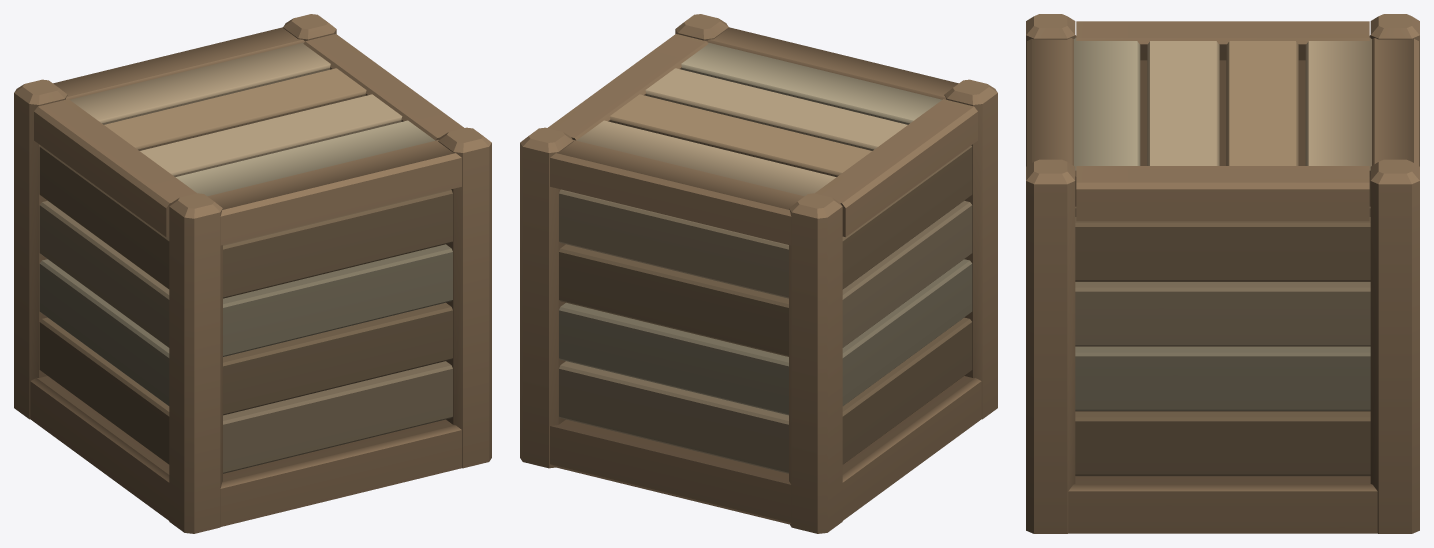
Rendered from crate.glb.
3 views of the same model, side by side, from view 1: azimuth 30°, elevation 25°; view 2: azimuth 150°, elevation 25°; view 3: azimuth 270°, elevation 25° (orthographic). The views are drawn at different scales.
Parts seen in each view (by area): view 1: crate; view 2: crate; view 3: crate.
Part boxes in pixels (x1,y1,x2,y2): crate: (14,14,491,533); crate: (520,14,997,533); crate: (1026,14,1419,533).
Size of the model in its own units: 0.96 by 0.96 by 0.96.
